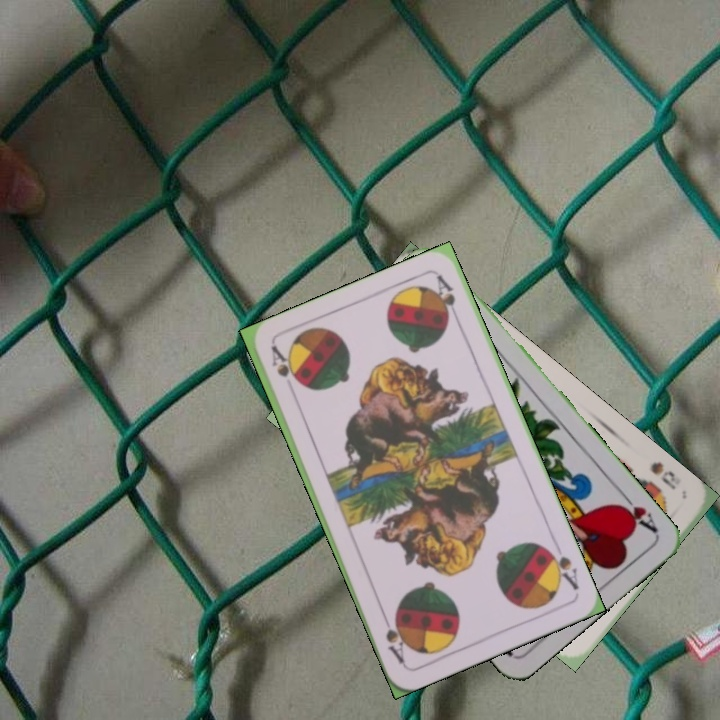HA: (611, 487, 661, 536)
S8: (646, 457, 679, 493)
SA: (541, 543, 582, 593), (267, 342, 297, 382)
